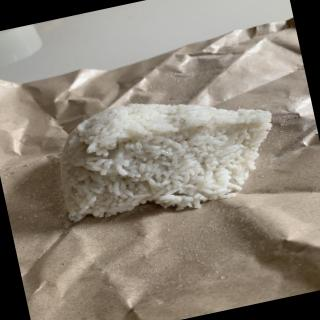Nasi: (47, 76, 288, 233)
